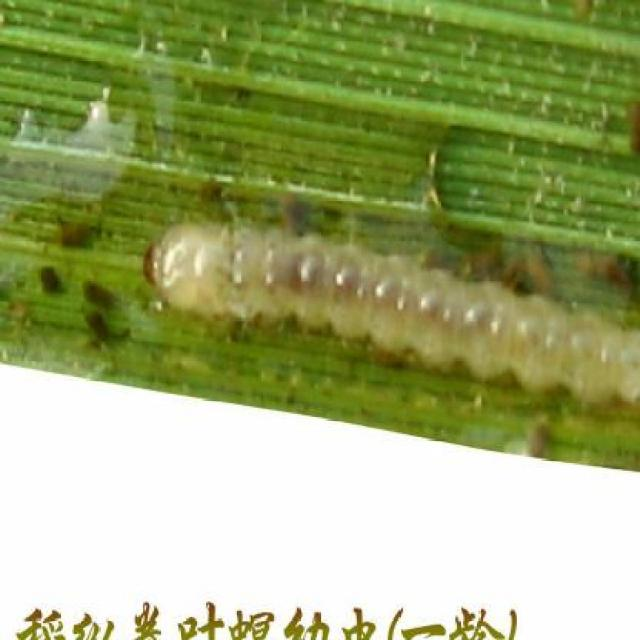leaf-folder: (137, 175, 640, 437)
